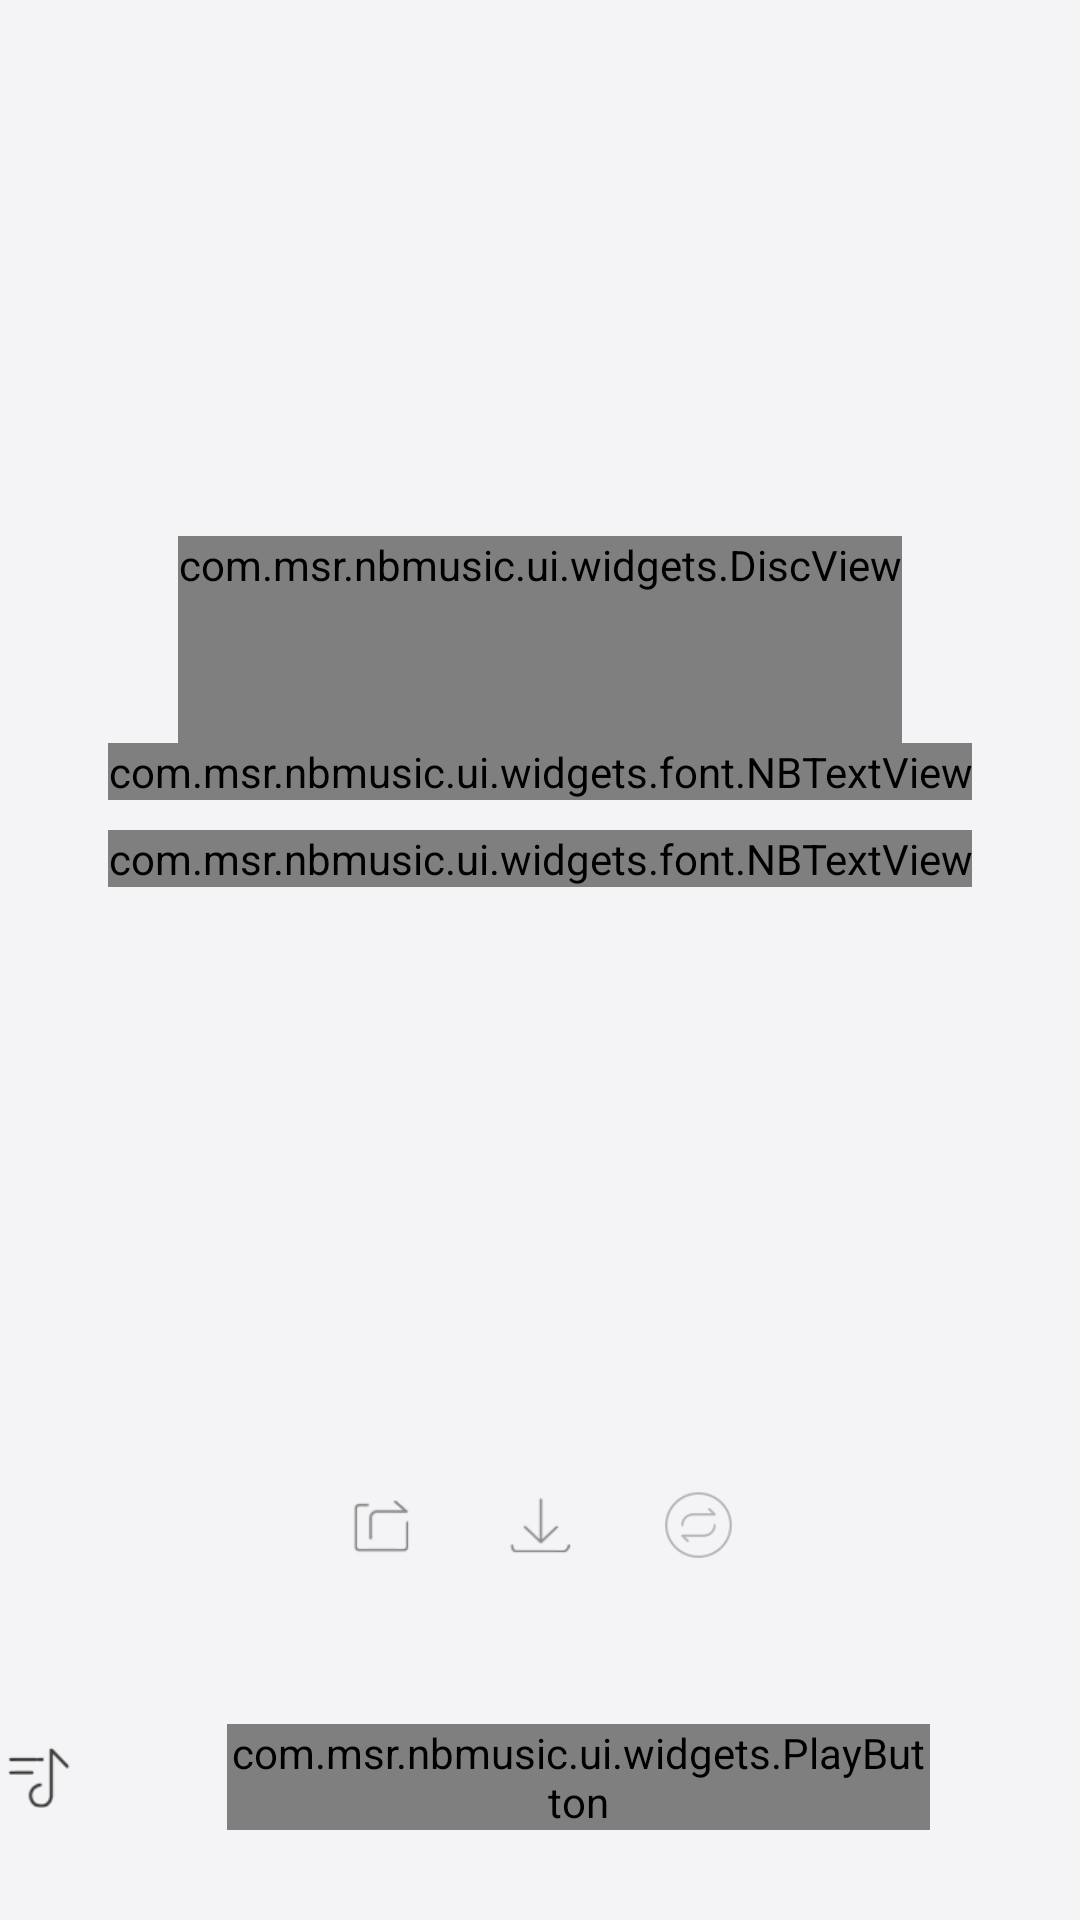

Named icons in this screenshot (1080w x 1920h) and their bounding boxes, (x1, y1, x2, y2):
download: (510, 1498, 570, 1553)
player list: (9, 1748, 70, 1808)
share: (354, 1500, 409, 1552)
song loop: (665, 1492, 732, 1558)
